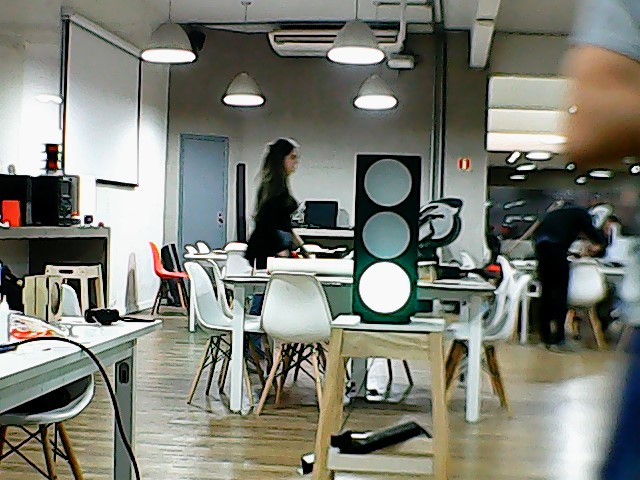verde: (352, 148, 422, 319)
